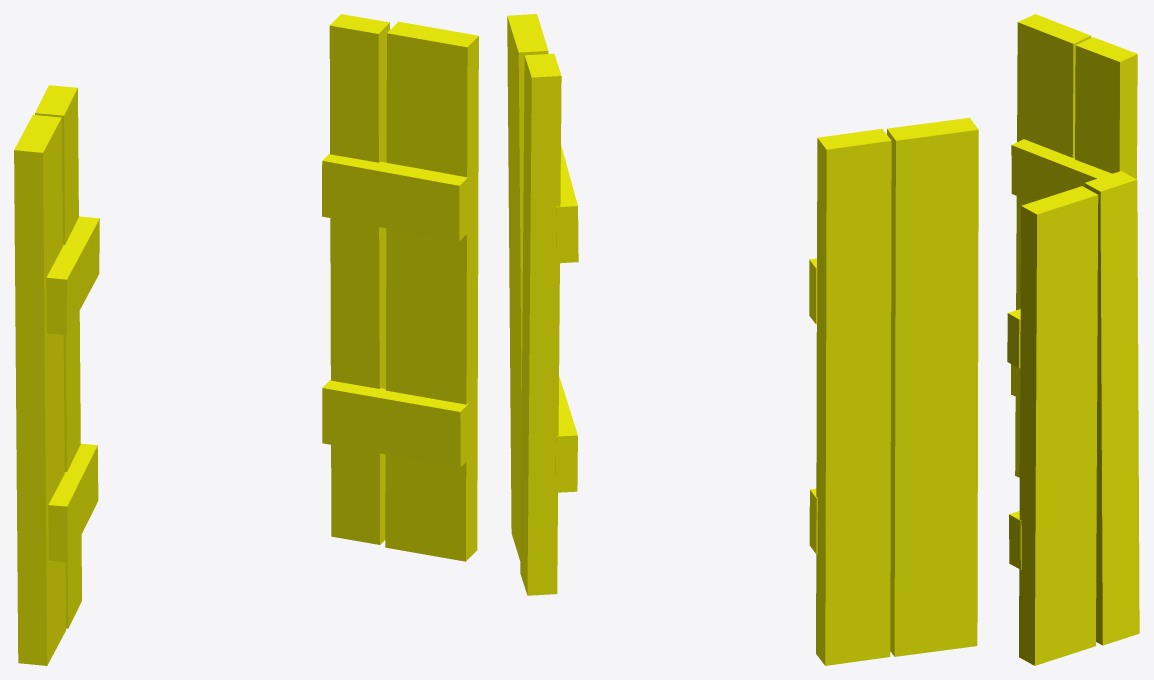
File: windowshutters-thin-flat-open.glb
3 renders of one model, left to right at view 1: azimuth 30°, elevation 25°; view 2: azimuth 150°, elevation 25°; view 3: azimuth 270°, elevation 25°, orthographic. The views are drawn at different scales.
Visible parts, largest first — view 1: WindowShutters_Thin_Flat_Open; view 2: WindowShutters_Thin_Flat_Open; view 3: WindowShutters_Thin_Flat_Open.
Boxes of the visible parts, <box> form: WindowShutters_Thin_Flat_Open: <box>14,14,478,665</box>; WindowShutters_Thin_Flat_Open: <box>507,14,978,665</box>; WindowShutters_Thin_Flat_Open: <box>1007,14,1139,665</box>.
Bounding box in the file's own units: 1.35 × 1.42 × 0.3771.
Materials: 1 (1 with a texture image).
